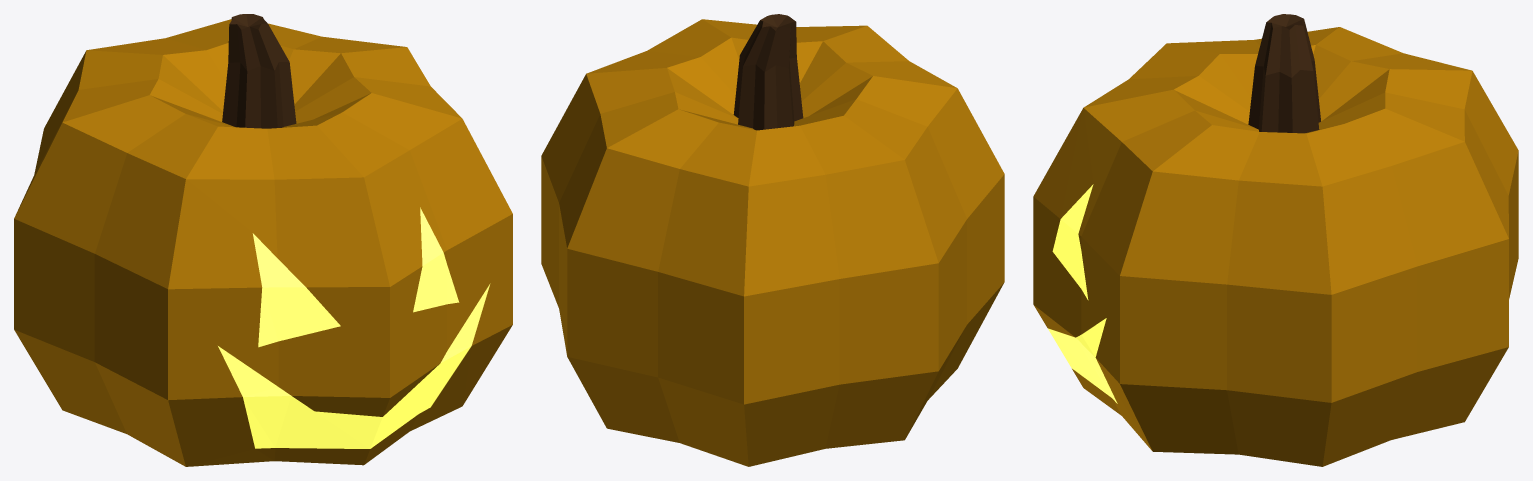
The model's file is pumpkin.glb.
3 views of the same model, side by side, from view 1: azimuth 30°, elevation 25°; view 2: azimuth 150°, elevation 25°; view 3: azimuth 270°, elevation 25° (orthographic). The views are drawn at different scales.
Visible parts, largest first — view 1: pumpkin; view 2: pumpkin; view 3: pumpkin.
Part boxes in pixels (bbox=[...]): pumpkin: bbox=[14, 14, 512, 466]; pumpkin: bbox=[541, 14, 1004, 466]; pumpkin: bbox=[1033, 14, 1518, 466].
Size of the model in its own units: 0.9326 by 0.8204 by 0.9602.
1 material, 1 textured.
